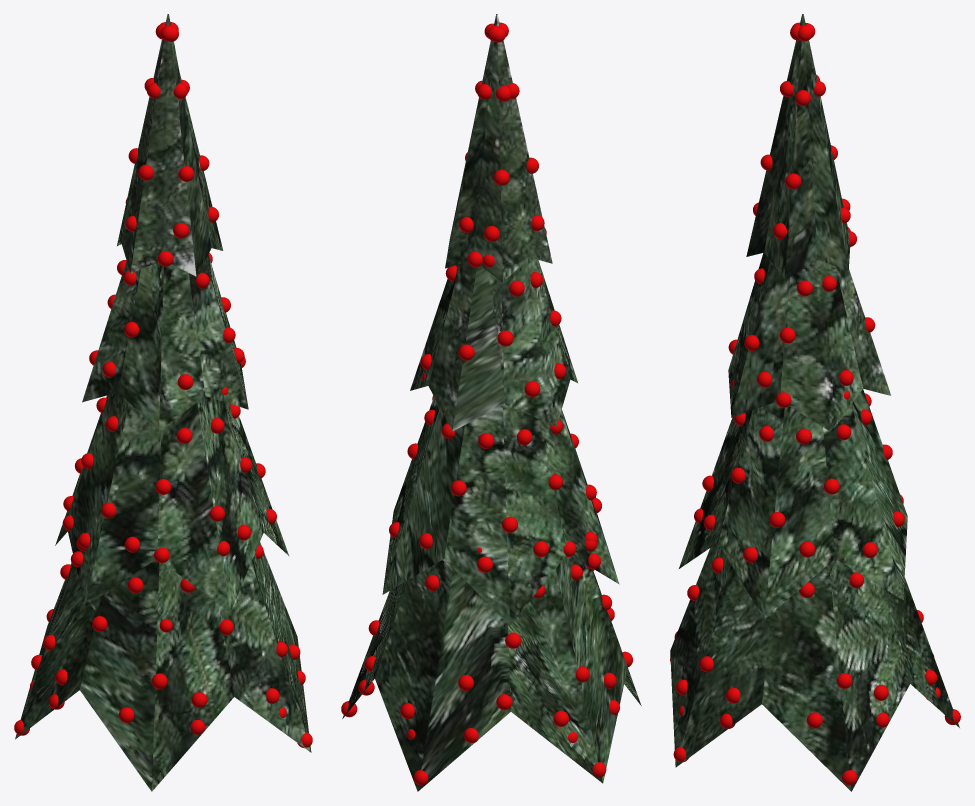
The model's file is christmasTree.glb.
The picture shows the model from 3 angles, left to right: view 1: azimuth 30°, elevation 25°; view 2: azimuth 150°, elevation 25°; view 3: azimuth 270°, elevation 25°; orthographic projection.
Parts seen in each view (by area): view 1: Cilindro; view 2: Cilindro; view 3: Cilindro.
Boxes of the visible parts, x1,y1,x2,y2 form: Cilindro: [15, 14, 311, 791]; Cilindro: [342, 14, 641, 791]; Cilindro: [670, 14, 959, 791].
Size of what is drawn, in the model's own units: 2.27 by 5.94 by 2.19.
Materials: 2 (1 with a texture image).
